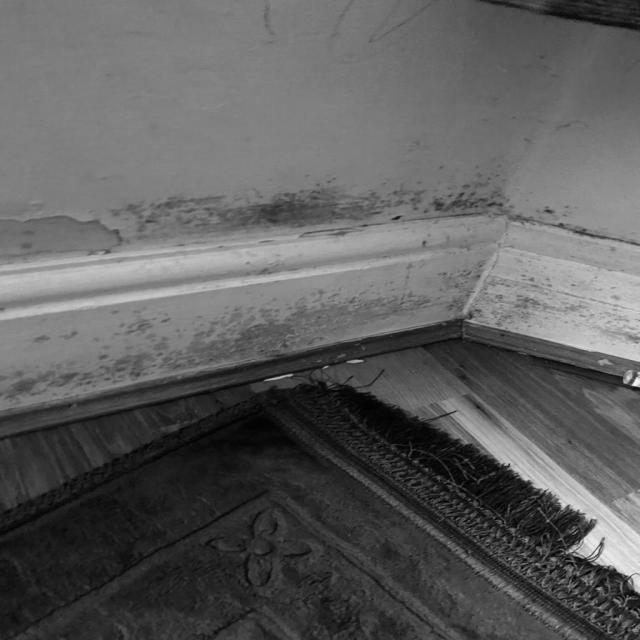stain marks: (106, 174, 546, 243), (402, 54, 595, 175), (166, 288, 438, 368), (0, 313, 159, 408), (241, 0, 453, 65), (495, 257, 640, 346), (0, 207, 105, 269), (550, 197, 640, 250), (433, 252, 492, 326)
